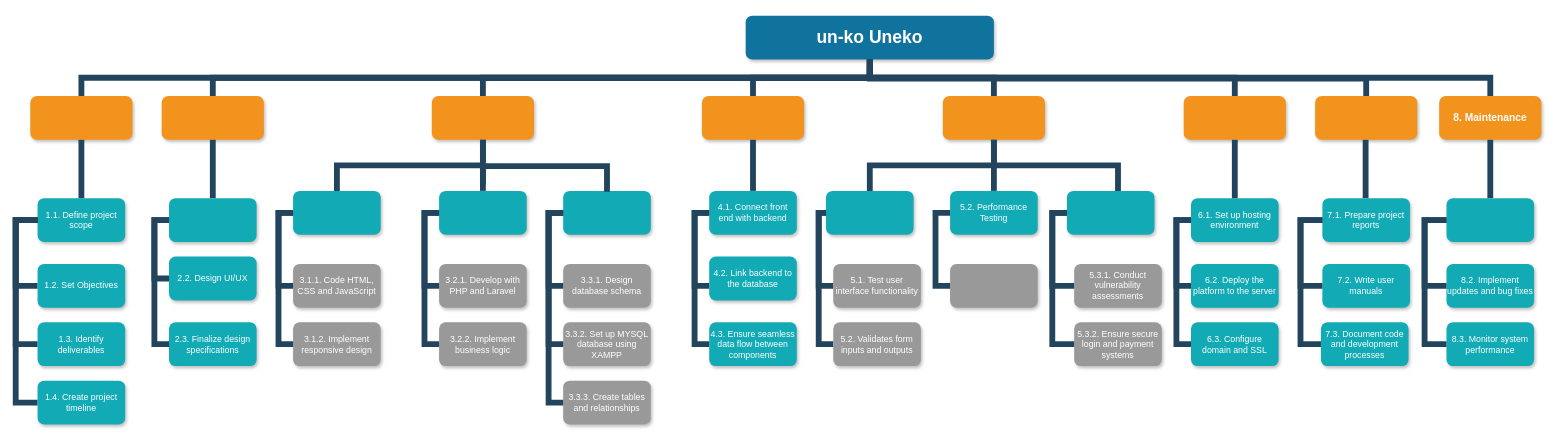
This 1558x442 diagram has some shape labels left out. The shapes that lost their labels are listed below. From the top down, each one's centre as x and y in pixels, then its label:
At point (82, 119): "1. Project Planning".
At point (213, 119): "2. Design Phase".
At point (483, 119): "3. Development Phase".
At point (753, 119): "4. Integration".
At point (994, 119): "5. Testing".
At point (1235, 119): "6. Deployment".
At point (1366, 119): "7. Documentation".
At point (213, 221): "2.1. Develop wireframes".
At point (337, 213): "3.1. Front end Development".
At point (483, 213): "3.2. Backend Development".
At point (607, 213): "3.3. Database setup".
At point (870, 213): "5.1. Functional Testing".
At point (1111, 213): "5.3. Security Testing".
At point (1490, 221): "8.1. Provide ongoing technical support".
At point (994, 286): "5.2.1. Check load times and responsiveness".
